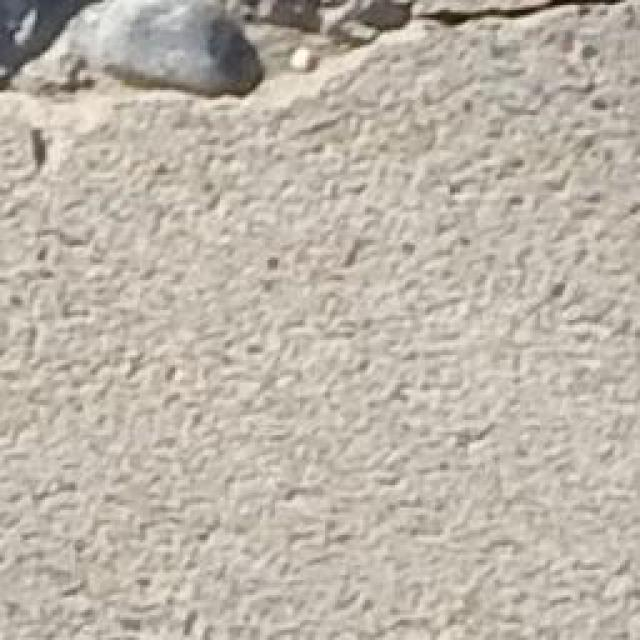concrete-crack: (0, 0, 640, 111)
